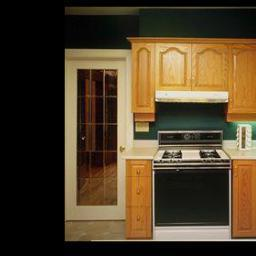Electrodomestico: (156, 130, 230, 241)
Puerta: (66, 53, 126, 220)
